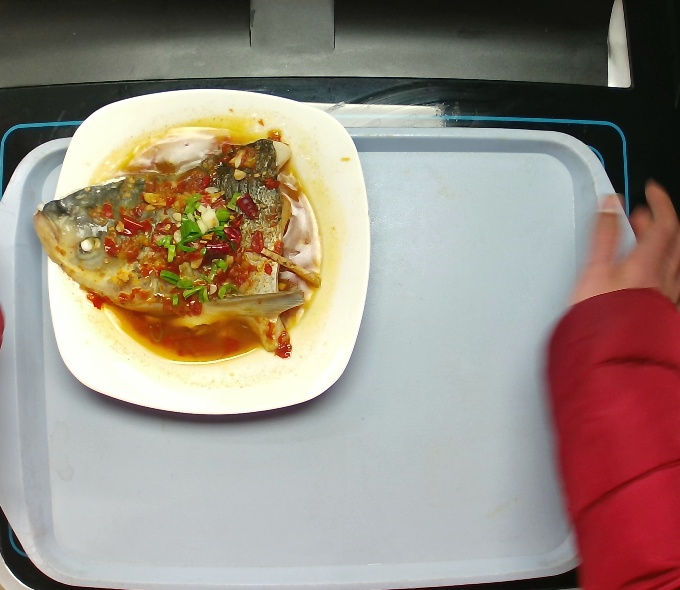wcq-DuoJiaoYuTou: (29, 113, 332, 371)
